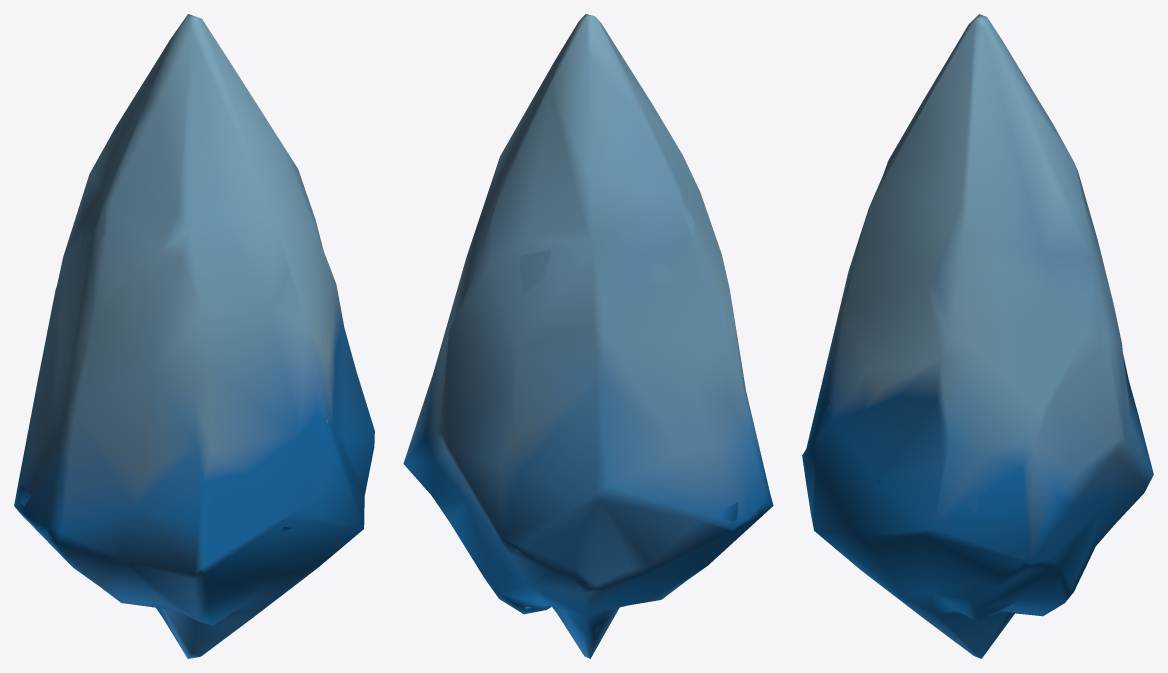
Rendered from gen3d-iceberg-lod1.glb.
3 renders of one model, left to right at view 1: azimuth 30°, elevation 25°; view 2: azimuth 150°, elevation 25°; view 3: azimuth 270°, elevation 25°, orthographic.
Parts seen in each view (by area): view 1: part_0; view 2: part_0; view 3: part_0.
Boxes of the visible parts, bbox=[...] form: part_0: bbox=[14, 14, 374, 658]; part_0: bbox=[403, 14, 773, 658]; part_0: bbox=[802, 14, 1153, 658].
Size of the model in its own units: 0.5231 by 0.9961 by 0.4957.
